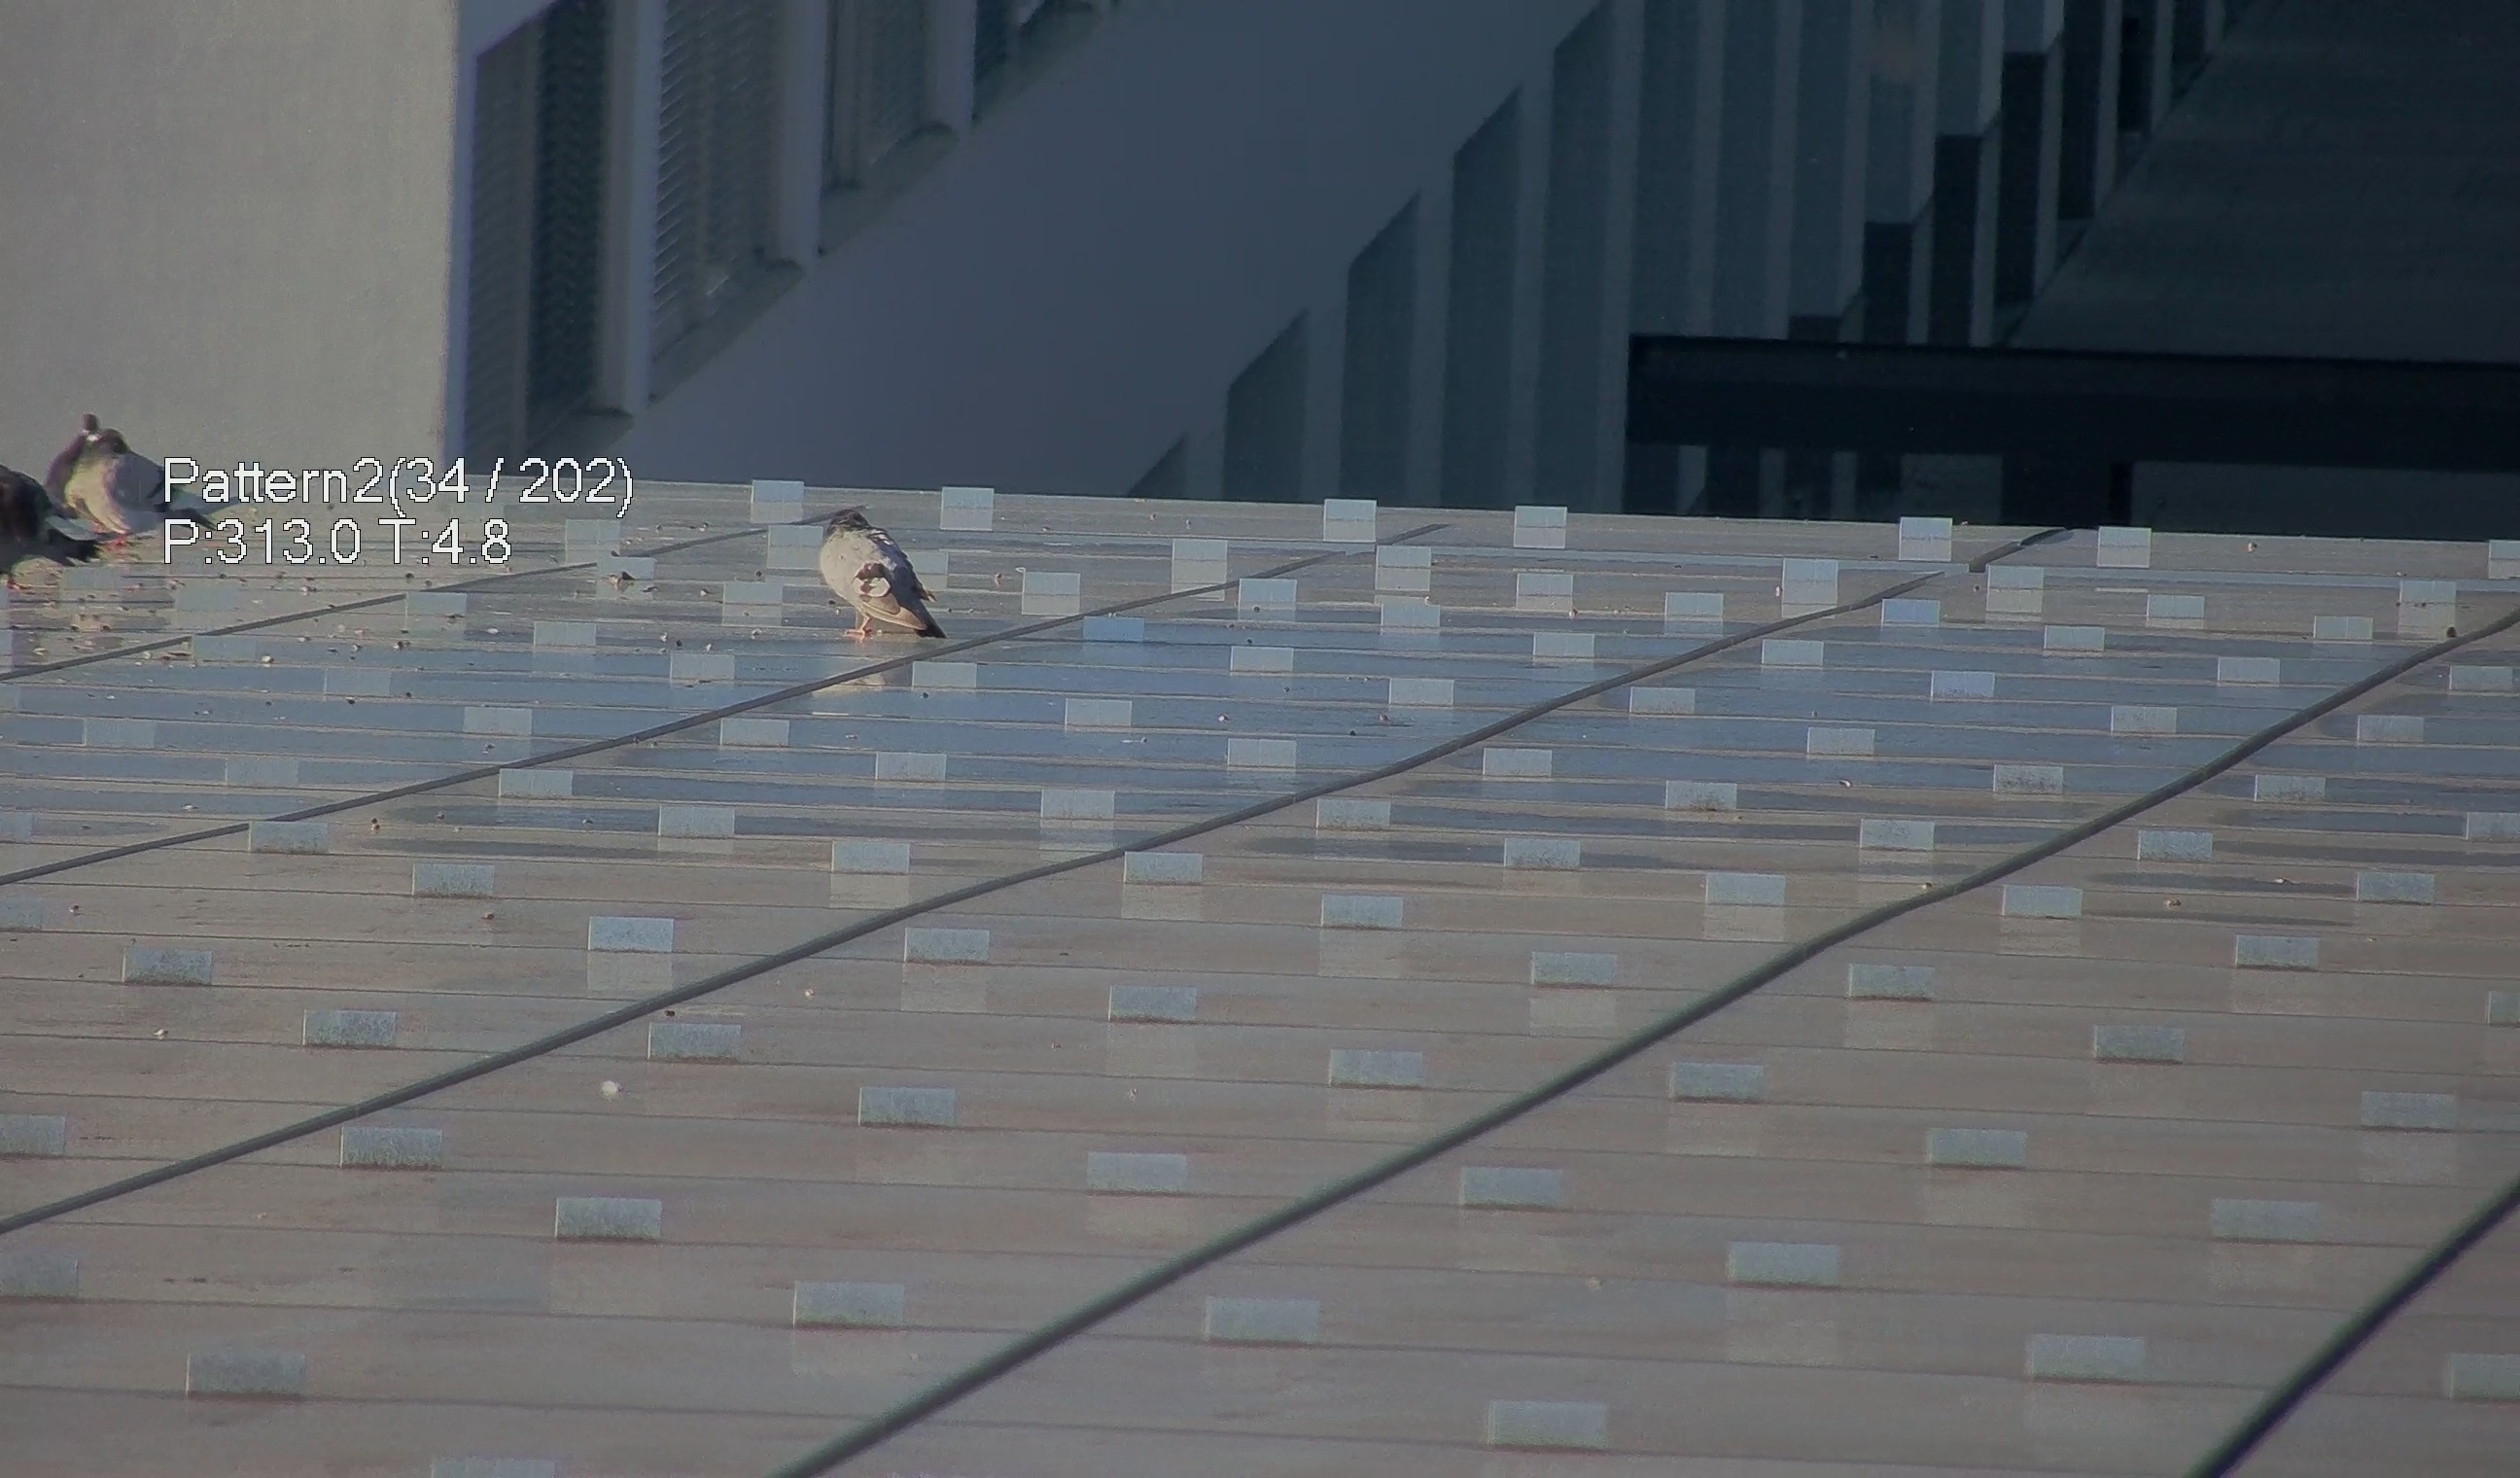Pigeon: (39, 396, 204, 567), (805, 498, 950, 649), (2, 452, 81, 579)
